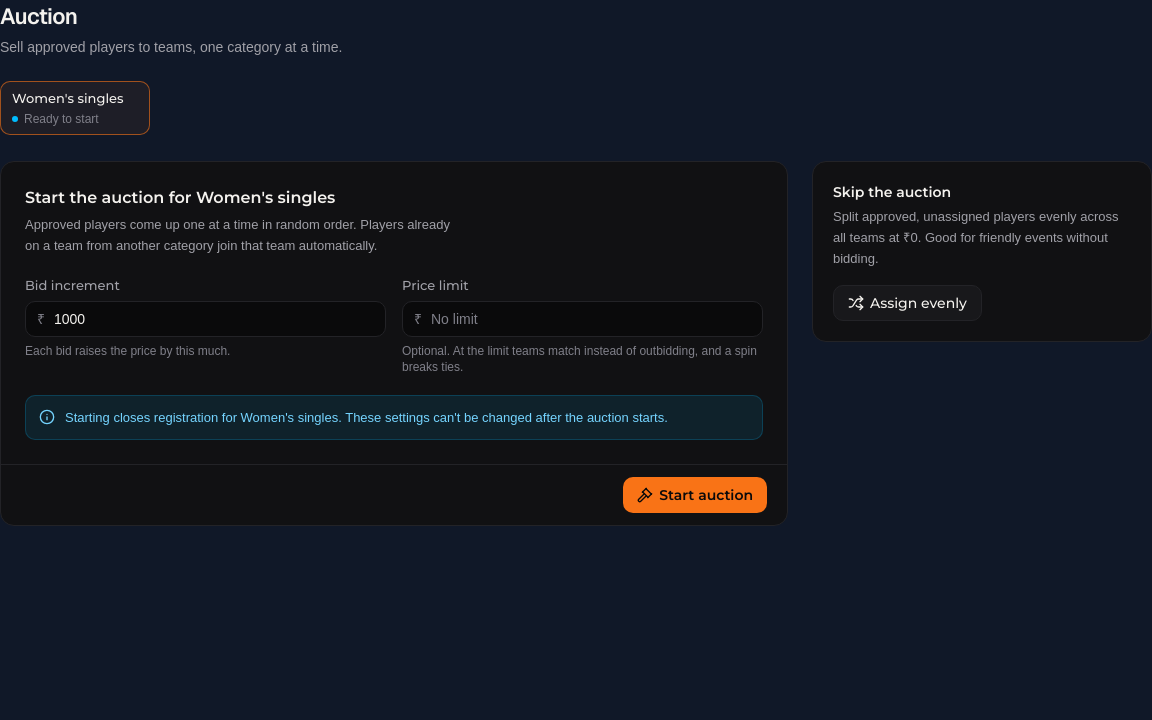
Scenario: AuctionSection › asks before assigning players evenly
Click the button "Assign evenly": coordinates (907, 303) top-left (833, 285), bottom-right (982, 321)
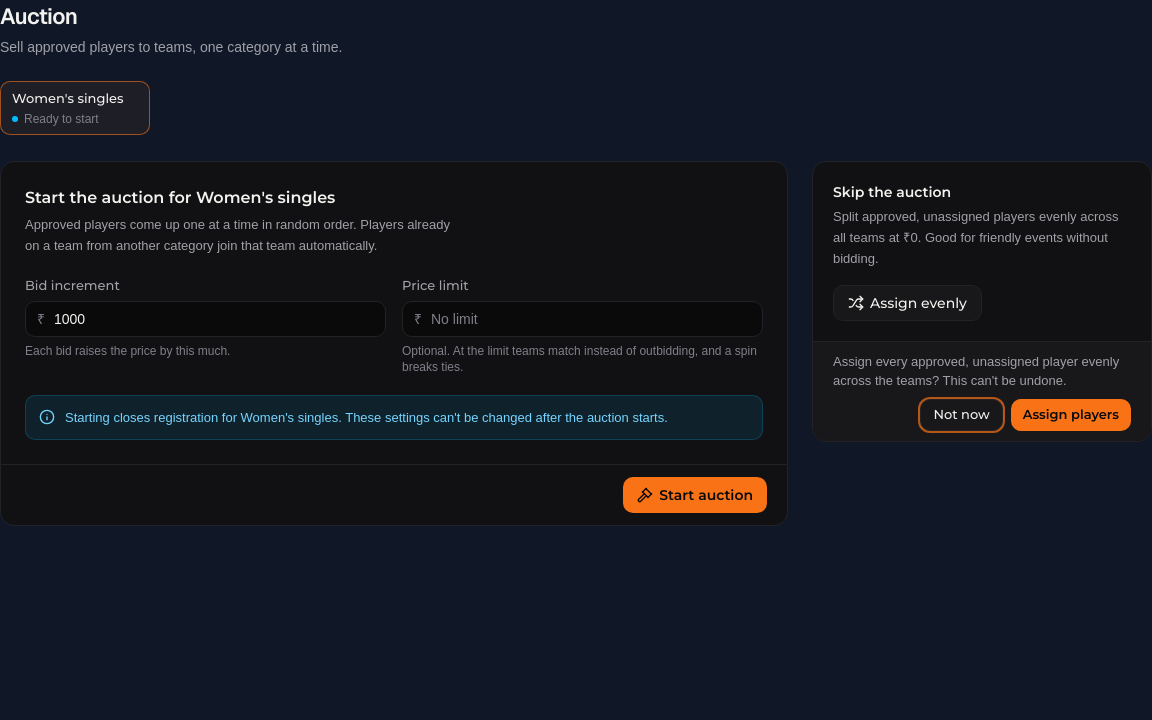
Click the button "Assign players": coordinates (1071, 415) top-left (1011, 399), bottom-right (1131, 431)
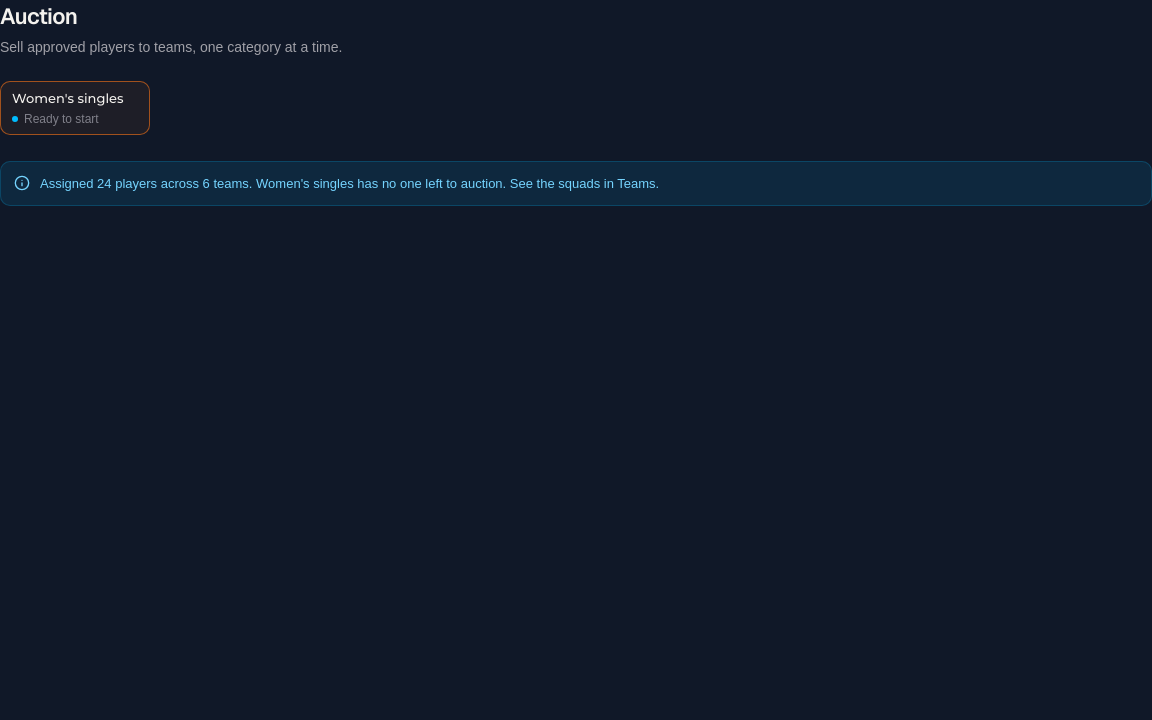
Result: the text "Assigned 24 players across 6 teams" is shown at top-left (40, 172), bottom-right (659, 194)
